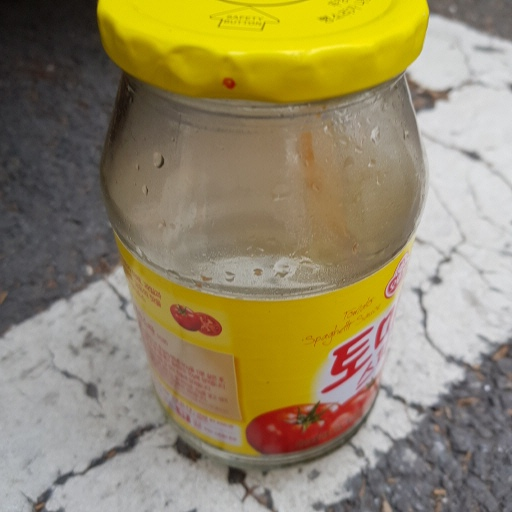Glass_5: (96, 1, 431, 469)
